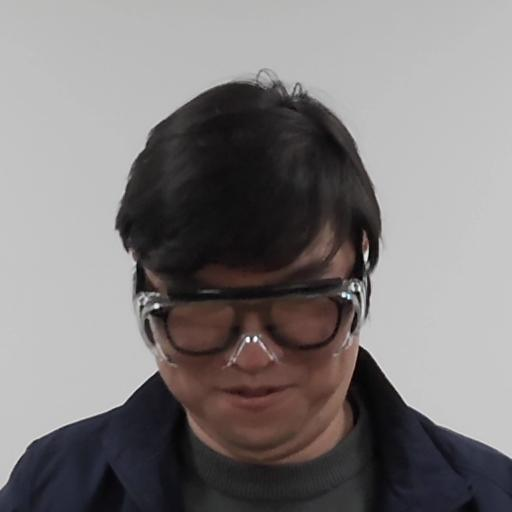glasses: (101, 76, 385, 460)
